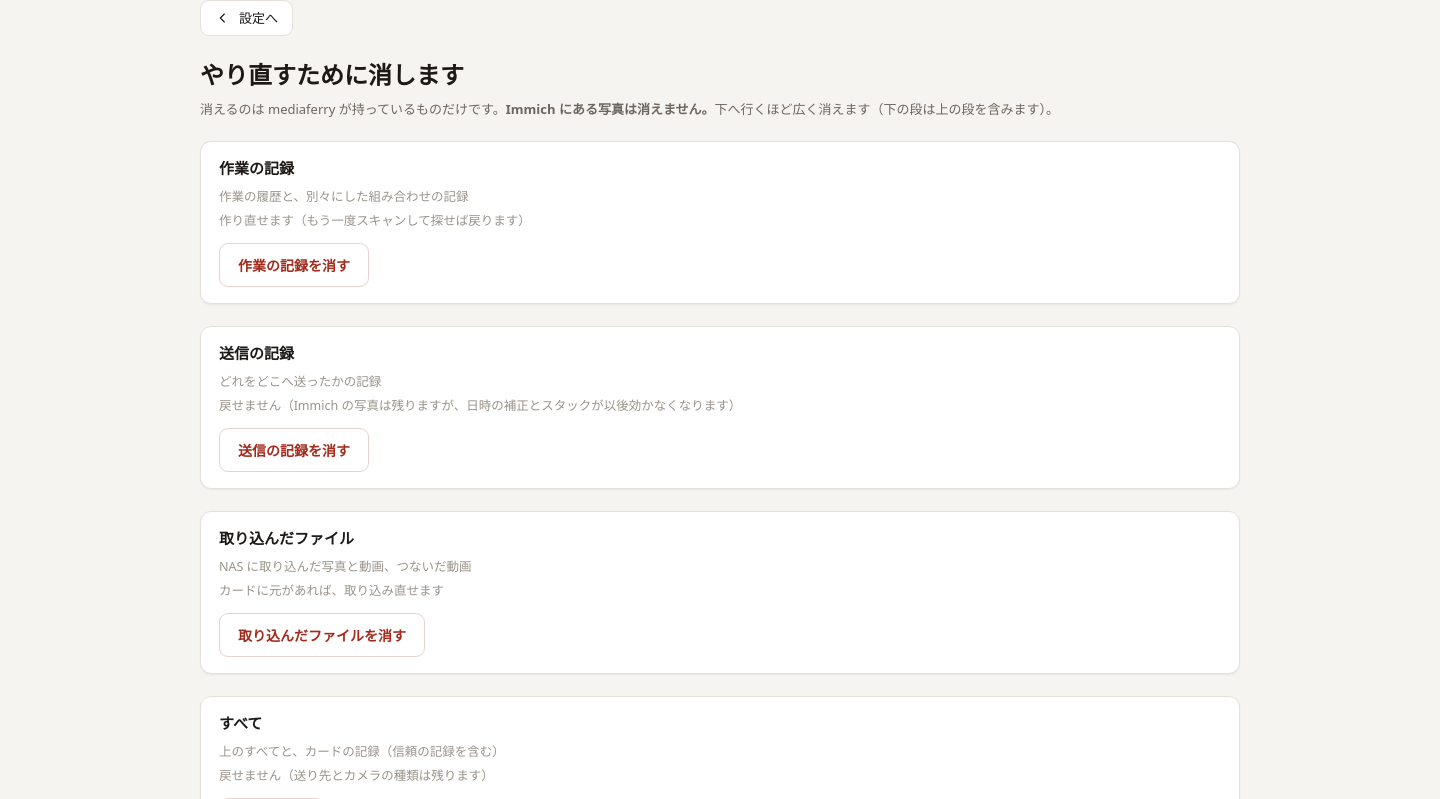
リセット › 送信の記録の確認は、Immich が無傷なことと、戻らない代償の両方を書く
This screenshot has width=1440, height=799.
What coordinates should you click on to do the following:
click the button "送信の記録を消す"
I would click on:
 (294, 450)
Its box is 219,428 -> 369,472.
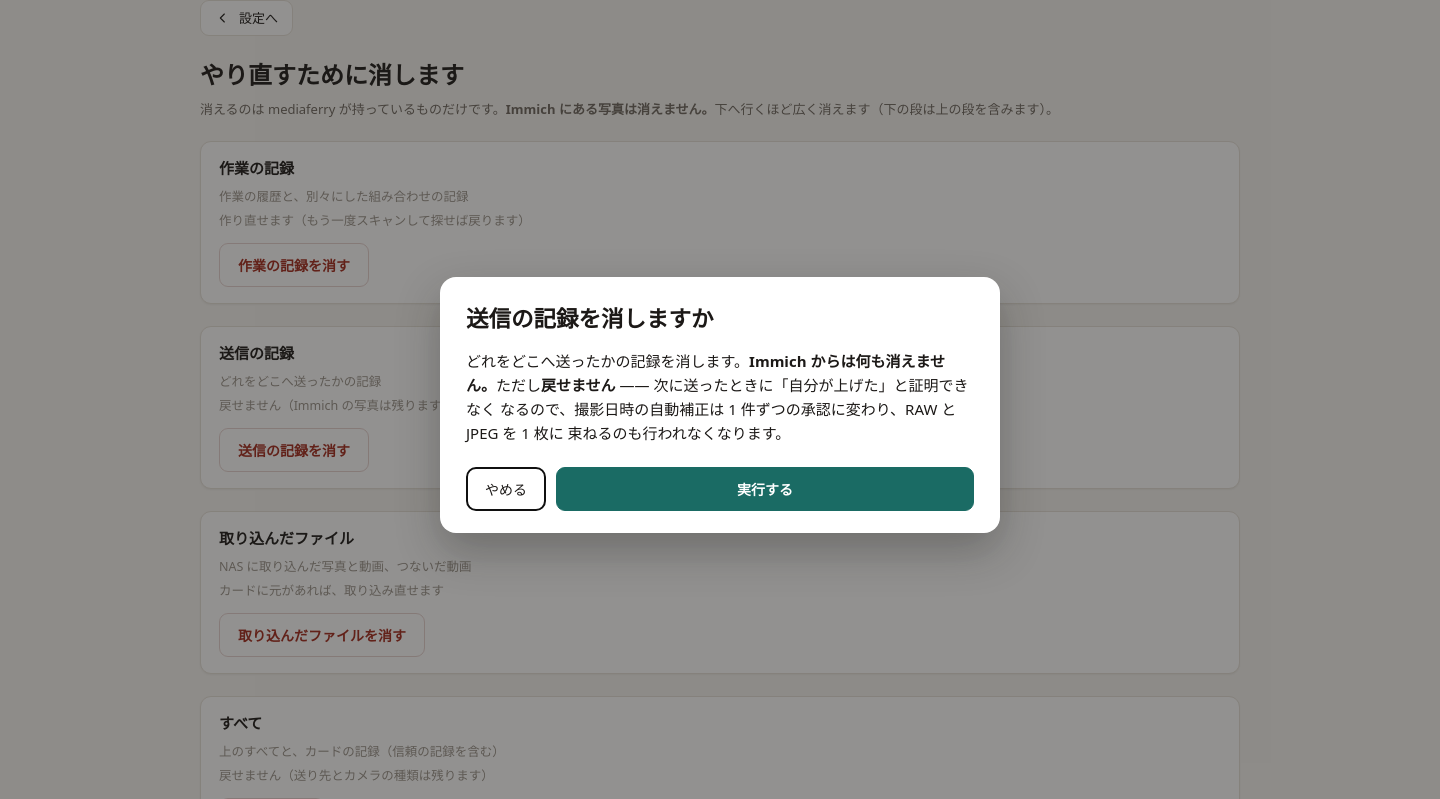
Expected: the dialog shows "Immich からは何も消えません", 466,351 -> 945,395
Expected: the dialog shows "戻せません", 541,375 -> 616,395
Expected: the dialog shows "日時", 440,277 -> 1000,533
